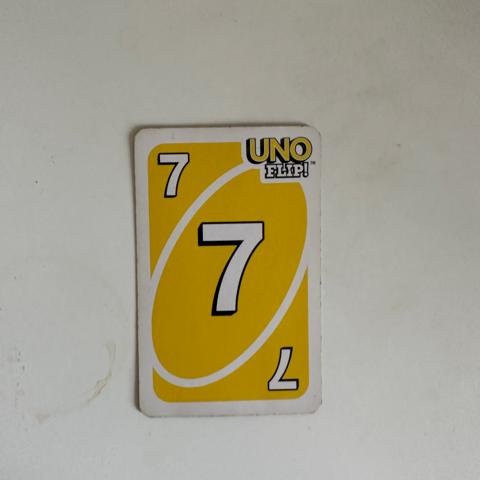1_yellow: (198, 219, 265, 316), (153, 151, 191, 199), (267, 347, 302, 392)
